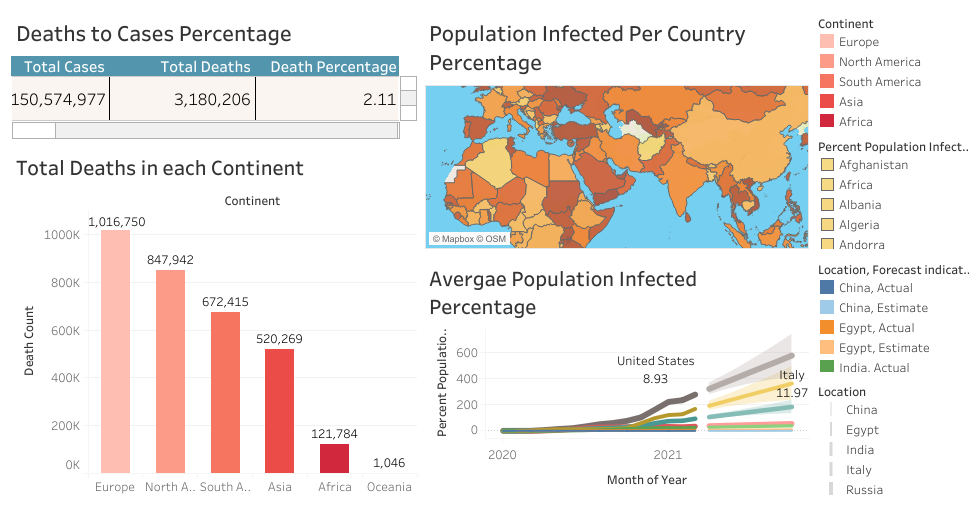

The dashboard page shown, as its layout file describes it:
{"tool":"tableau","page":{"name":"Dashboard 1","canvas":[1000,1000],"units":"permille","ordinal":0},"visuals":[{"type":"worksheet","title":"Sheet 1","mark":"Automatic","box":[6.1,13.8,444.8,268]},{"type":"worksheet","title":"Sheet 3","mark":"Multipolygon","box":[450.9,13.8,421.2,486.2]},{"type":"legend","title":"Sheet 2","param":"[federated.0lyqhfq12n3fzw1fdqx7e0m7cknp].[none:Location:nk]","box":[872.1,13.8,121.9,243.1]},{"type":"legend","title":"Sheet 3","param":"[federated.09t5cp70hb7o8t1d7km6e0msvou9].[none:Location:nk]","box":[872.1,256.9,121.9,243.1]},{"type":"worksheet","title":"Sheet 2","mark":"Automatic","rows":["TotalDeathCount"],"cols":["Location"],"box":[6.1,281.8,444.8,704.5]},{"type":"worksheet","title":"Sheet 4","mark":"Automatic","rows":["PercentPopulationInfected"],"cols":["date"],"box":[450.9,500,421.2,486.2]},{"type":"legend","title":"Sheet 4","param":"[federated.03wtjgs1motiph17y3rc30u95rqs].[none:Location:nk]\n[federated.03wtjgs1m","box":[872.1,500,121.9,243.1]},{"type":"legend","title":"Sheet 4","param":"[federated.03wtjgs1motiph17y3rc30u95rqs].[none:Location:nk]","box":[872.1,743.1,121.9,243.1]}]}

Visuals, with their boxes on the dashboard's canvas, which has no fixed pixel size, in thousandths of its width and height (x1, y1, x2, y2). These are canvas units, not pixel positions in the 980x506 screenshot, which may show the page scaled, cropped or inside an application window:
"Sheet 1" worksheet: l=6, t=14, r=451, b=282
"Sheet 3" worksheet (Multipolygon marks): l=451, t=14, r=872, b=500
"Sheet 2" legend: l=872, t=14, r=994, b=257
"Sheet 3" legend: l=872, t=257, r=994, b=500
"Sheet 2" worksheet: l=6, t=282, r=451, b=986
"Sheet 4" worksheet: l=451, t=500, r=872, b=986
"Sheet 4" legend: l=872, t=500, r=994, b=743
"Sheet 4" legend: l=872, t=743, r=994, b=986
